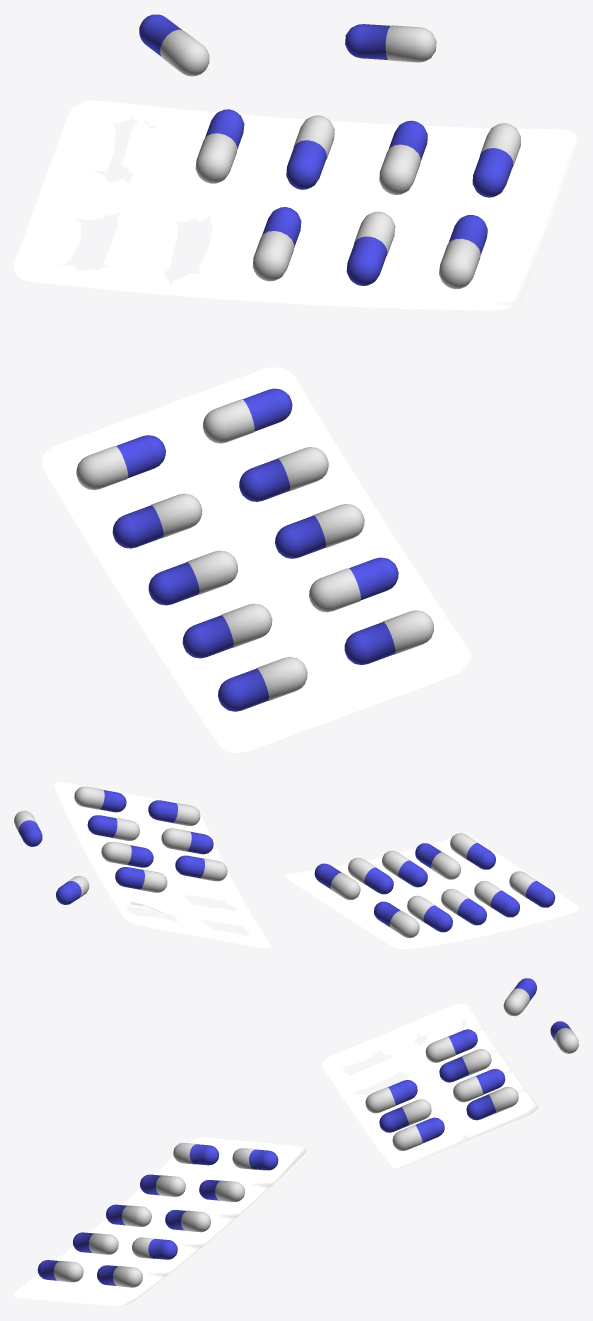
Rendered from pills.glb.
3 renders of one model, top to bottom at view 1: azimuth 30°, elevation 25°; view 2: azimuth 150°, elevation 25°; view 3: azimuth 330°, elevation 25°, orthographic. The views are drawn at different scales.
Parts seen in each view (by area): view 1: Plane.006, Plane.002, Cube, Cube.002, Cube.003; view 2: Plane.006, Plane.002, Cube, Cube.002, Cube.003; view 3: Plane.002, Plane.006, Cube, Cube.002, Cube.003.
Boxes of the visible parts, x1,y1,x2,y2 form: Plane.006: [14, 100, 578, 311]; Plane.002: [41, 367, 472, 753]; Cube: [76, 388, 433, 711]; Cube.002: [195, 109, 520, 289]; Cube.003: [139, 14, 436, 76]; Plane.006: [54, 782, 270, 948]; Plane.002: [286, 838, 578, 949]; Cube: [314, 833, 555, 938]; Cube.002: [74, 786, 227, 892]; Cube.003: [14, 810, 89, 904]; Plane.002: [14, 1137, 306, 1306]; Plane.006: [322, 1003, 538, 1168]; Cube: [37, 1143, 278, 1287]; Cube.002: [365, 1029, 518, 1151]; Cube.003: [503, 978, 578, 1053].
Bounding box in the file's own units: 2.96 × 1.39 × 4.2.
